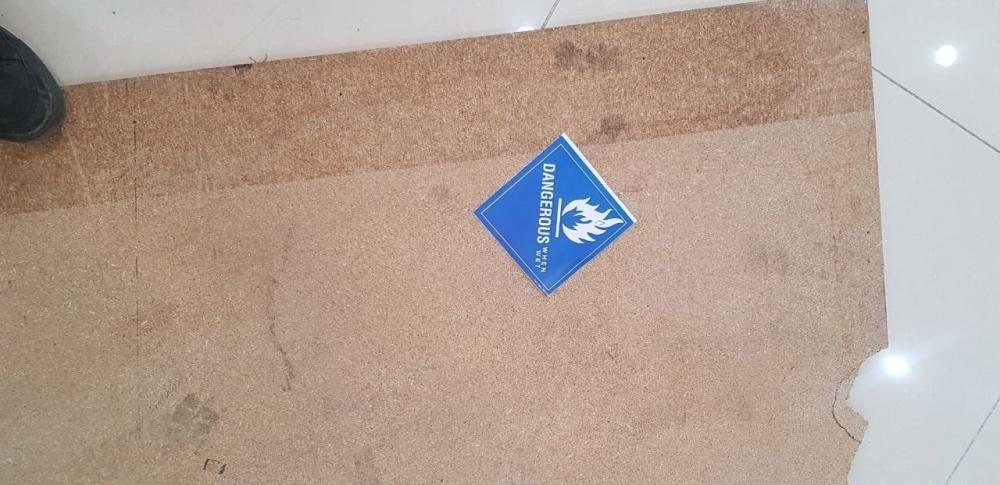dangerous-when-wet: (473, 134, 638, 299)
